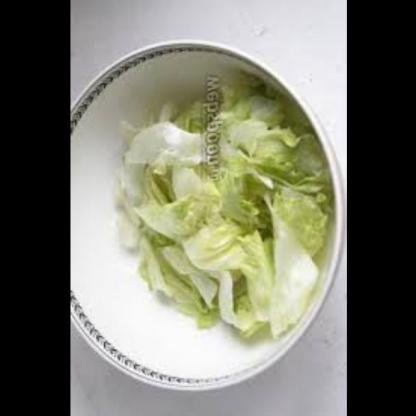salad: (102, 89, 318, 338)
